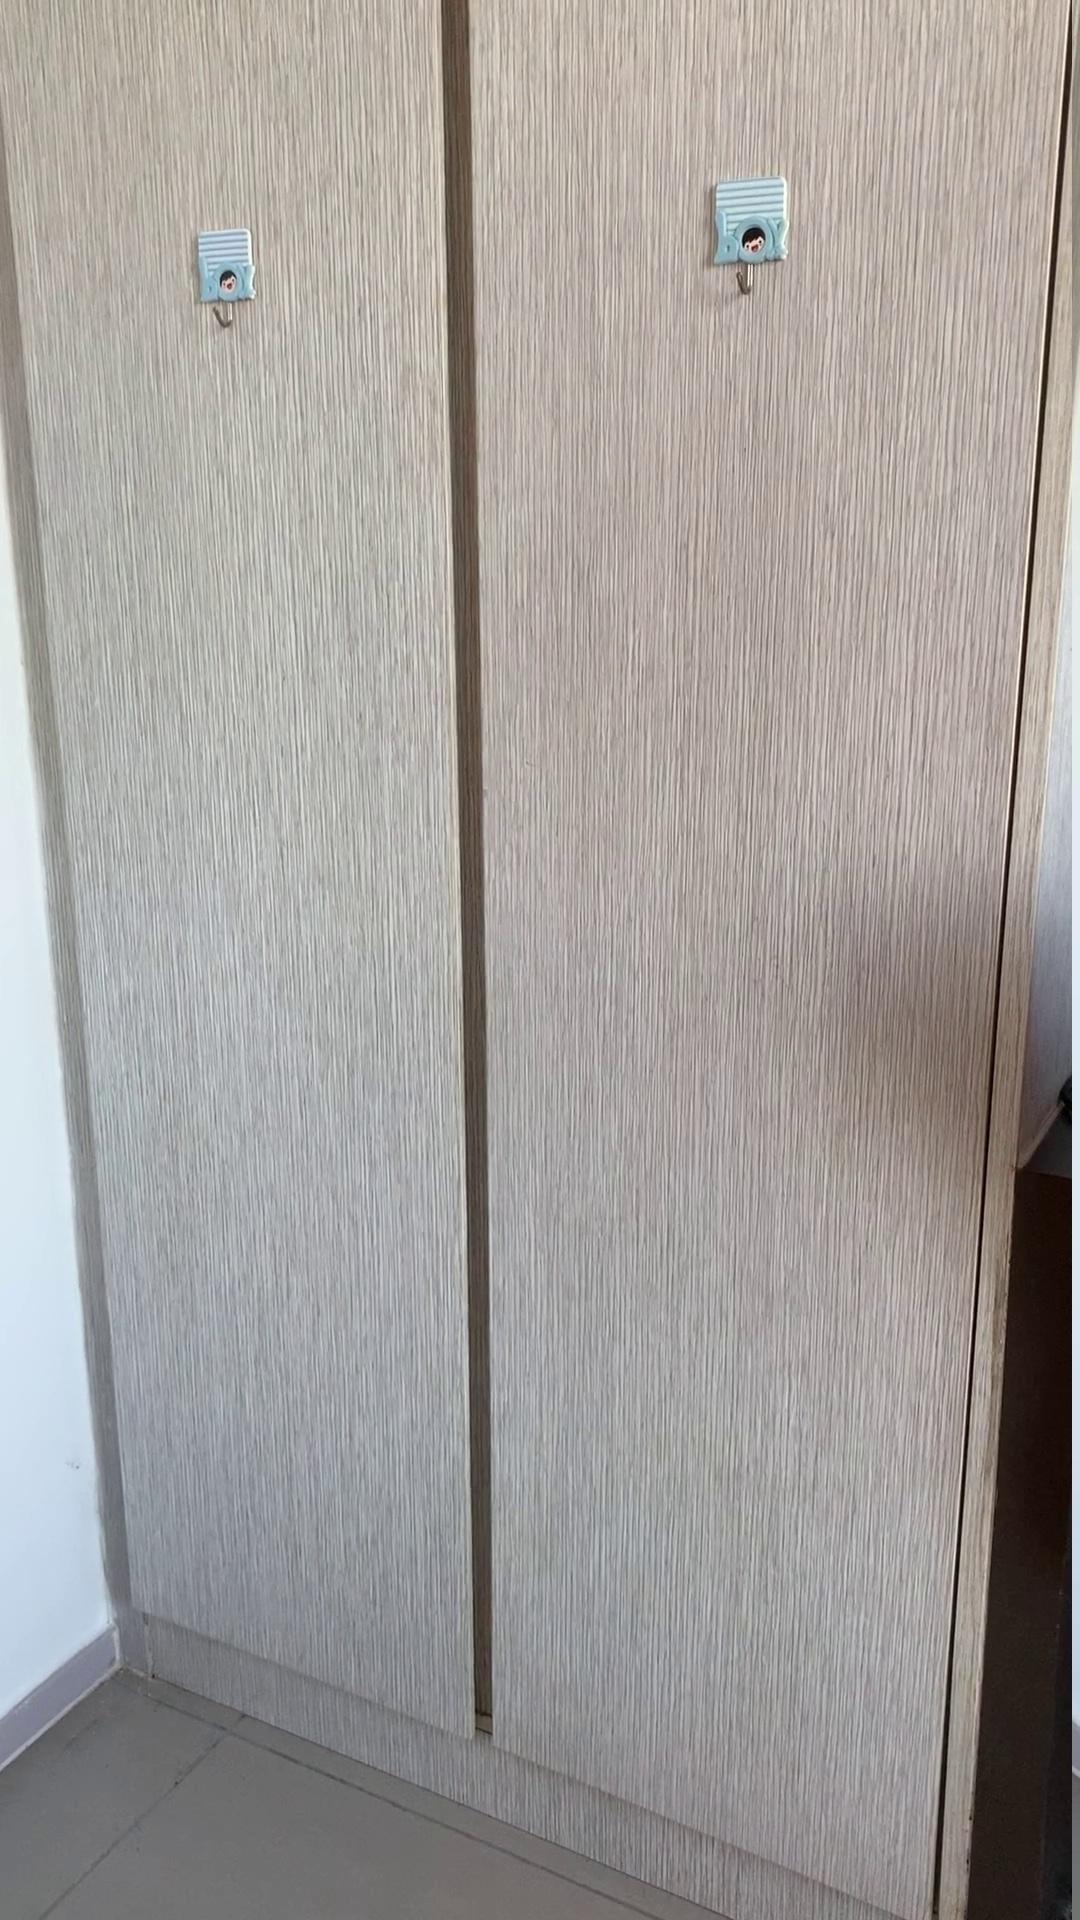Armario: (7, 1, 1050, 1887)
